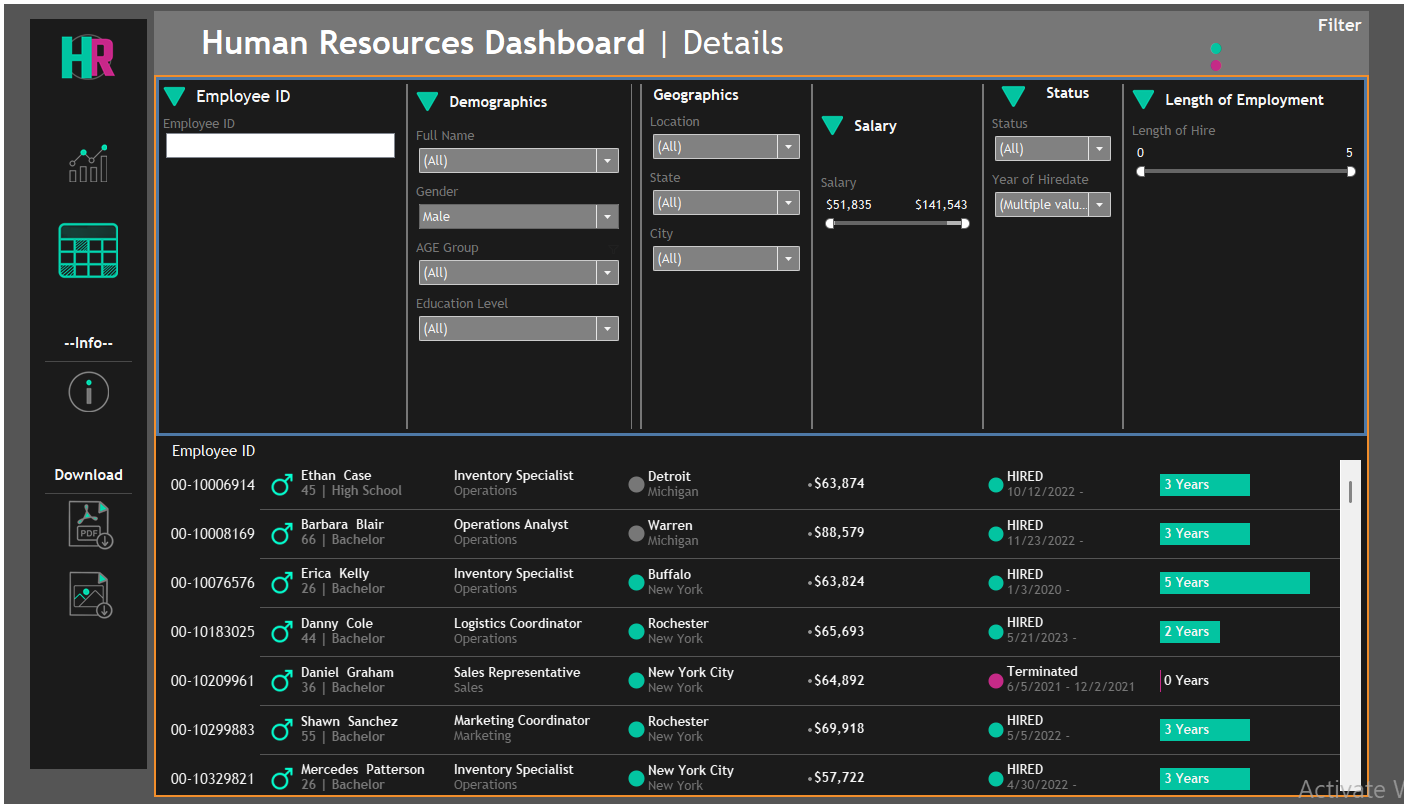

Layout of this report page (visuals, bound fields, positions):
{"tool":"tableau","page":{"name":"HR | Details","canvas":[1400,800],"ordinal":0},"visuals":[{"type":"text","box":[1286,6,100,30]},{"type":"text","box":[150,7,677.5,64]},{"type":"blank","box":[827.5,7,537.5,64]},{"type":"image","param":"Image/Logo.png","box":[36,25,97,55]},{"type":"text","box":[1203,37,89,36]},{"type":"dashboard-object","box":[155,76,30,32]},{"type":"text","box":[185,76,213.5,32]},{"type":"blank","box":[398.5,76,10,353]},{"type":"dashboard-object","box":[408.5,76,30,44]},{"type":"text","box":[438.5,76,184,44]},{"type":"dashboard-object","box":[542,76,30,32]},{"type":"text","box":[572,76,61.5,32]},{"type":"blank","box":[622.5,76,10,353]},{"type":"blank","box":[632.5,76,10,353]},{"type":"blank","box":[633.5,76,49.5,32]},{"type":"text","box":[642.5,76,161,30]},{"type":"blank","box":[803.5,76,10,353]},{"type":"dashboard-object","box":[813.5,76,30,91]},{"type":"text","box":[843.5,76,90,91]},{"type":"blank","box":[974.5,76,10,353]},{"type":"dashboard-object","box":[984.5,76,51,32]},{"type":"text","box":[1035.5,76,79,26]},{"type":"blank","box":[1114.5,76,10,353]},{"type":"dashboard-object","box":[1124.5,76,30,39]},{"type":"text","box":[1154.5,76,205.5,39]},{"type":"blank","box":[36,80,97,60]},{"type":"filter","title":"details","param":"[federated.1b5o2vp1k13vo616yvkzb0z88h2i].[none:Calculation_1937110846422126599:n","box":[642.5,106,161,56]},{"type":"filter","title":"details","param":"[federated.1b5o2vp1k13vo616yvkzb0z88h2i].[none:Employee_ID:nk]","box":[155,108,243.5,53]},{"type":"filter","title":"details","param":"[federated.1b5o2vp1k13vo616yvkzb0z88h2i].[none:Job Title:nk]","box":[542,108,141,79]},{"type":"filter","title":"details","param":"[federated.1b5o2vp1k13vo616yvkzb0z88h2i].[none:Calculation_1937110847479668753:n","box":[984.5,108,130,56]},{"type":"filter","title":"details","param":"[federated.1b5o2vp1k13vo616yvkzb0z88h2i].[sum:Calculation_1426515241898348553:qk","box":[1124.5,115,235.5,68]},{"type":"filter","title":"details","param":"[federated.1b5o2vp1k13vo616yvkzb0z88h2i].[none:Calculation_1426515241864122372:n","box":[408.5,120,214,56]},{"type":"dashboard-object","box":[36,140,97,38]},{"type":"filter","title":"details","param":"[federated.1b5o2vp1k13vo616yvkzb0z88h2i].[none:State:nk]","box":[642.5,162,161,56]},{"type":"filter","title":"details","param":"[federated.1b5o2vp1k13vo616yvkzb0z88h2i].[yr:Hiredate:ok]","box":[984.5,164,130,56]},{"type":"filter","title":"details","param":"[federated.1b5o2vp1k13vo616yvkzb0z88h2i].[sum:Salary:qk]","box":[813.5,167,161,68]},{"type":"filter","title":"details","param":"[federated.1b5o2vp1k13vo616yvkzb0z88h2i].[none:Gender:nk]","box":[408.5,176,214,56]},{"type":"blank","box":[36,178,97,38]},{"type":"filter","title":"details","param":"[federated.1b5o2vp1k13vo616yvkzb0z88h2i].[none:Department:nk]","box":[542,187,141,76]},{"type":"dashboard-object","box":[36,216,97,60]},{"type":"filter","title":"details","param":"[federated.1b5o2vp1k13vo616yvkzb0z88h2i].[none:City:nk]","box":[642.5,218,161,56]},{"type":"filter","title":"details","param":"[federated.1b5o2vp1k13vo616yvkzb0z88h2i].[none:Calculation_1937110846440509456:n","box":[408.5,232,214,56]},{"type":"text","box":[142,266,1257,267]},{"type":"blank","box":[36,276,97,50]},{"type":"filter","title":"details","param":"[federated.1b5o2vp1k13vo616yvkzb0z88h2i].[none:Education Level:nk]","box":[408.5,288,214,56]},{"type":"text","box":[36,326,97,26]},{"type":"blank","box":[36,352,97,11]},{"type":"dashboard-object","box":[36,363,97,49]},{"type":"blank","box":[36,412,97,46]},{"type":"worksheet","title":"details","mark":"Shape","rows":["Employee_ID"],"cols":["Calculation_1426515241874878472","Calculation_1426515241874878472","Calculation_1426515241874878472","Calculation_1426515241874878472","Calculation_1426515241874878472","Calculation_1426515241898348553"],"box":[152,432,1211,359]},{"type":"text","box":[36,458,97,26]},{"type":"blank","box":[36,484,97,11]},{"type":"dashboard-object","box":[36,495,97,51]},{"type":"blank","box":[36,546,97,20]},{"type":"dashboard-object","box":[36,566,97,49]}]}

Visuals, with their boxes in screenshot pixels (x1, y1, x2, y2), scaled from the page's 1400x800 canvas onto the 1404x805 screenshot:
text: bbox=[1290, 6, 1390, 36]
text: bbox=[150, 7, 830, 71]
blank: bbox=[830, 7, 1369, 71]
image: bbox=[36, 25, 133, 80]
text: bbox=[1206, 37, 1296, 73]
dashboard-object: bbox=[155, 76, 186, 109]
text: bbox=[186, 76, 400, 109]
blank: bbox=[400, 76, 410, 432]
dashboard-object: bbox=[410, 76, 440, 121]
text: bbox=[440, 76, 624, 121]
dashboard-object: bbox=[544, 76, 574, 109]
text: bbox=[574, 76, 635, 109]
blank: bbox=[624, 76, 634, 432]
blank: bbox=[634, 76, 644, 432]
blank: bbox=[635, 76, 685, 109]
text: bbox=[644, 76, 806, 107]
blank: bbox=[806, 76, 816, 432]
dashboard-object: bbox=[816, 76, 846, 168]
text: bbox=[846, 76, 936, 168]
blank: bbox=[977, 76, 987, 432]
dashboard-object: bbox=[987, 76, 1038, 109]
text: bbox=[1038, 76, 1118, 103]
blank: bbox=[1118, 76, 1128, 432]
dashboard-object: bbox=[1128, 76, 1158, 116]
text: bbox=[1158, 76, 1364, 116]
blank: bbox=[36, 80, 133, 141]
"details" filter: bbox=[644, 107, 806, 163]
"details" filter: bbox=[155, 109, 400, 162]
"details" filter: bbox=[544, 109, 685, 188]
"details" filter: bbox=[987, 109, 1118, 165]
"details" filter: bbox=[1128, 116, 1364, 184]
"details" filter: bbox=[410, 121, 624, 177]
dashboard-object: bbox=[36, 141, 133, 179]
"details" filter: bbox=[644, 163, 806, 219]
"details" filter: bbox=[987, 165, 1118, 221]
"details" filter: bbox=[816, 168, 977, 236]
"details" filter: bbox=[410, 177, 624, 233]
blank: bbox=[36, 179, 133, 217]
"details" filter: bbox=[544, 188, 685, 265]
dashboard-object: bbox=[36, 217, 133, 278]
"details" filter: bbox=[644, 219, 806, 276]
"details" filter: bbox=[410, 233, 624, 290]
text: bbox=[142, 268, 1403, 536]
blank: bbox=[36, 278, 133, 328]
"details" filter: bbox=[410, 290, 624, 346]
text: bbox=[36, 328, 133, 354]
blank: bbox=[36, 354, 133, 365]
dashboard-object: bbox=[36, 365, 133, 415]
blank: bbox=[36, 415, 133, 461]
"details" worksheet (Shape marks): bbox=[152, 435, 1367, 796]
text: bbox=[36, 461, 133, 487]
blank: bbox=[36, 487, 133, 498]
dashboard-object: bbox=[36, 498, 133, 549]
blank: bbox=[36, 549, 133, 570]
dashboard-object: bbox=[36, 570, 133, 619]
